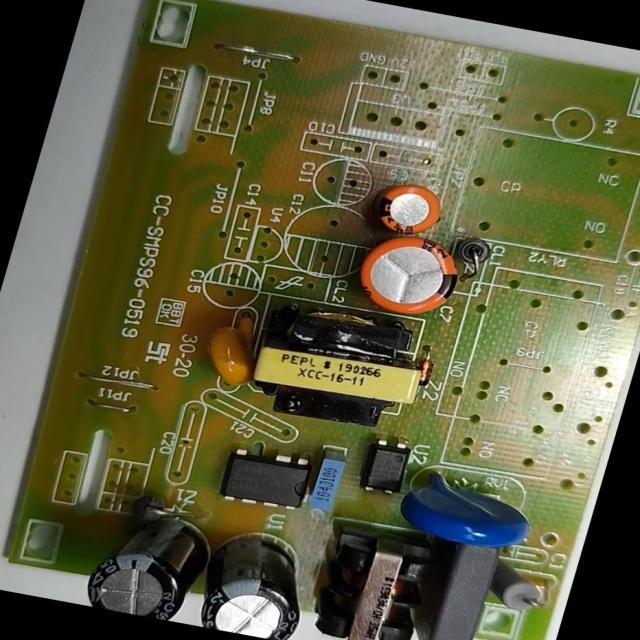Cap1: (348, 226, 470, 324)
Cap2: (369, 178, 450, 242)
Cap3: (193, 524, 325, 640)
Cap4: (79, 504, 221, 624)
MOSFET: (213, 441, 321, 522)
Mov: (393, 464, 544, 558)
Resistor: (485, 558, 555, 626)
Transformer: (238, 294, 442, 438), (302, 514, 453, 639)
